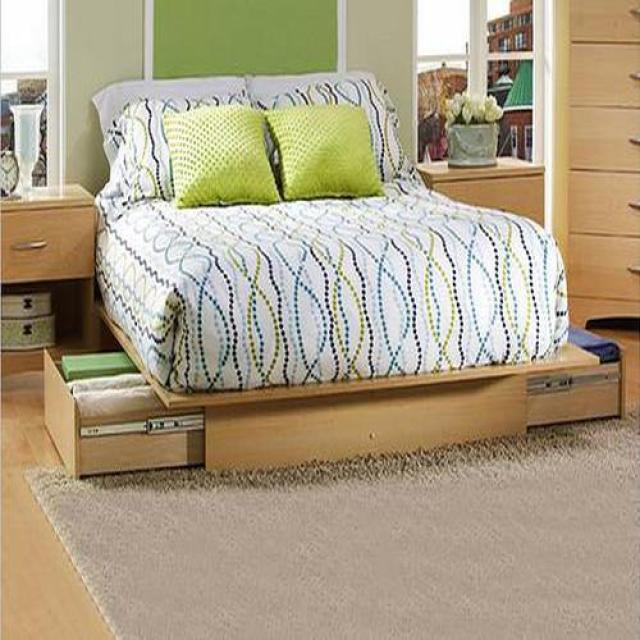bed: (47, 72, 623, 475)
table: (0, 193, 105, 351)
